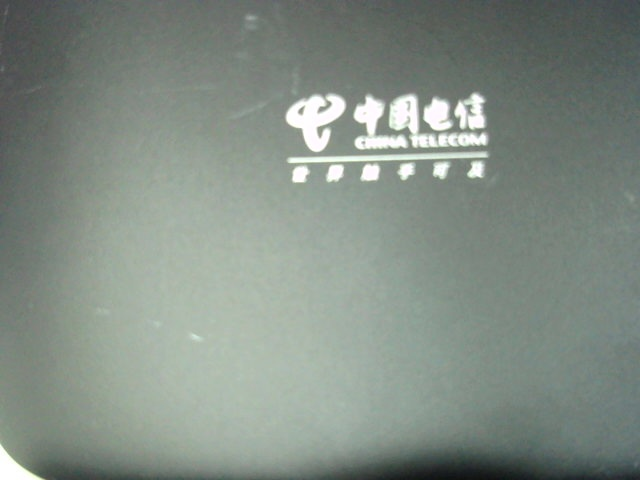AB_ChinaTelecom: (269, 86, 505, 192)
